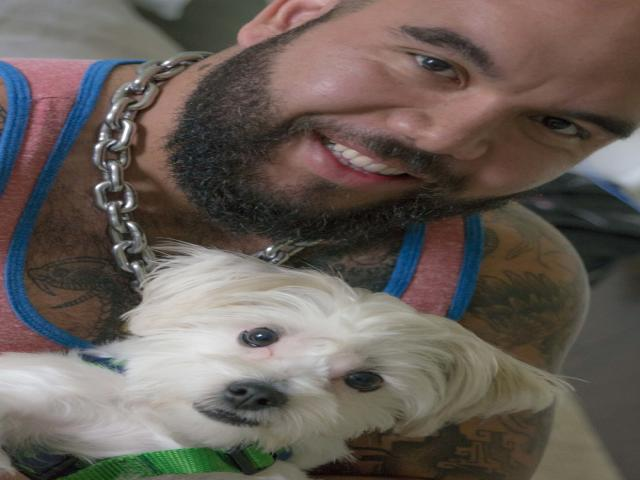Dog: (0, 238, 589, 480)
